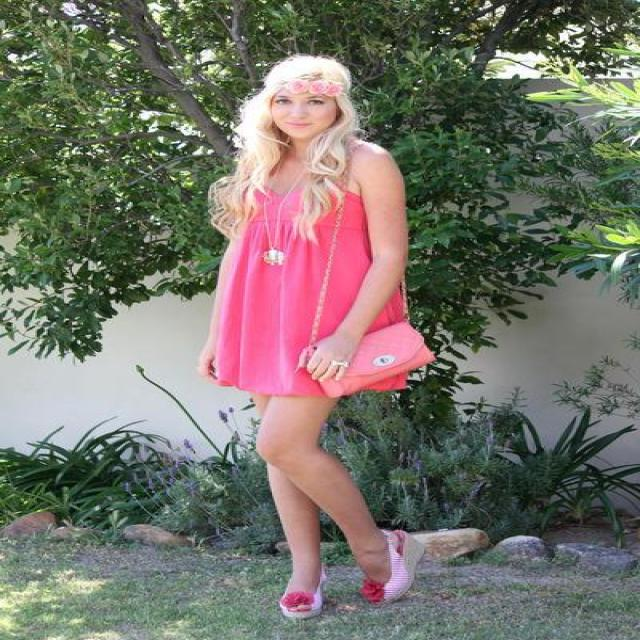bag: (318, 323, 436, 396)
dress: (221, 192, 408, 396)
shoe: (278, 530, 438, 622)
